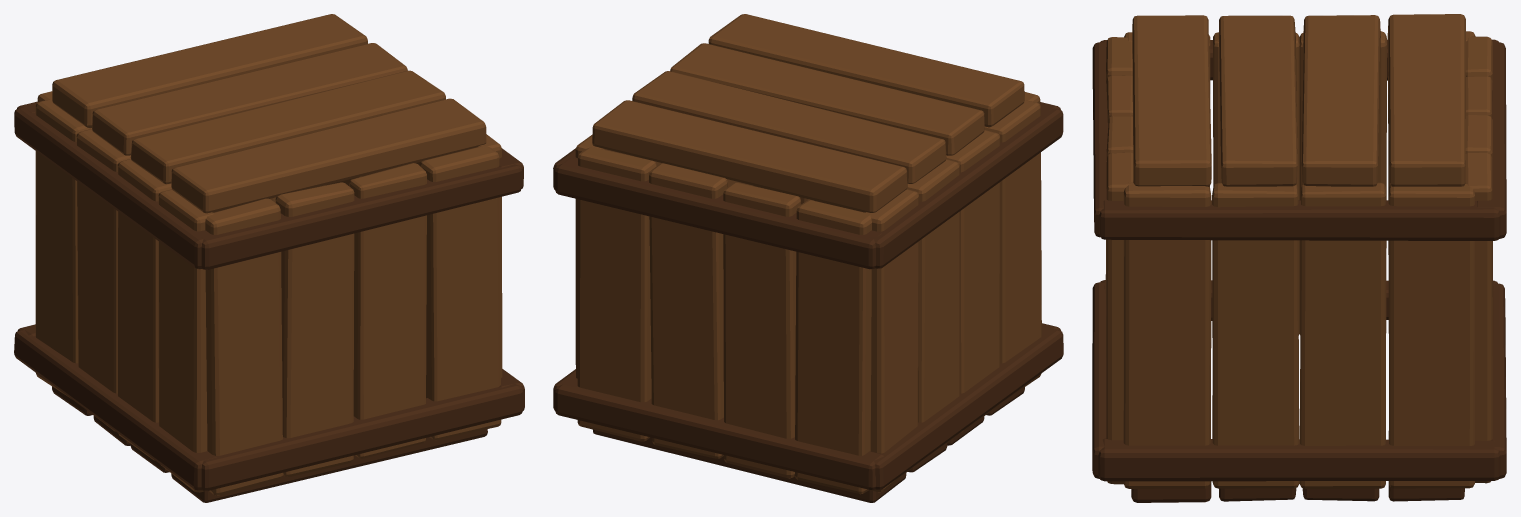
The model's file is crate_destructible_fractured.glb.
3 renders of one model, left to right at view 1: azimuth 30°, elevation 25°; view 2: azimuth 150°, elevation 25°; view 3: azimuth 270°, elevation 25°, orthographic. The views are drawn at different scales.
Visible parts, largest first — view 1: CrateFragmentFrontBoard-rigid, CrateFragmentLidBoard-rigid, CrateFragmentFrontBoard-rigid.003, CrateFragmentFrontBoard-rigid.001, CrateFragmentFrontBoard-rigid.002, CrateFragmentLidBoard-rigid.003, CrateFragmentLidBoard-rigid.001, CrateFragmentLidBoard-rigid.002, CrateFragmentRail-rigid, CrateFragmentRail-rigid.001, CrateFragmentSideBoard-rigid, CrateFragmentSideBoard-rigid.003 (+6 smaller); view 2: CrateFragmentFrontBoard-rigid.004, CrateFragmentLidBoard-rigid.003, CrateFragmentFrontBoard-rigid.006, CrateFragmentFrontBoard-rigid.005, CrateFragmentFrontBoard-rigid.007, CrateFragmentLidBoard-rigid, CrateFragmentLidBoard-rigid.002, CrateFragmentLidBoard-rigid.001, CrateFragmentRail-rigid.003, CrateFragmentRail-rigid.002, CrateFragmentSideBoard-rigid.003, CrateFragmentSideBoard-rigid (+6 smaller); view 3: CrateFragmentSideBoard-rigid.004, CrateFragmentSideBoard-rigid.005, CrateFragmentSideBoard-rigid.006, CrateFragmentSideBoard-rigid.007, CrateFragmentRail-rigid.006, CrateFragmentRail-rigid.007, CrateFragmentLidBoard-rigid.003, CrateFragmentLidBoard-rigid, CrateFragmentLidBoard-rigid.001, CrateFragmentLidBoard-rigid.002, CrateFragmentFrontBoard-rigid.003, CrateFragmentFrontBoard-rigid.007 (+16 smaller).
Boxes of the visible parts, left/top/right/bottom form: CrateFragmentFrontBoard-rigid: left=205, top=198, right=283, bottom=495; CrateFragmentLidBoard-rigid: left=171, top=98, right=486, bottom=213; CrateFragmentFrontBoard-rigid.003: left=420, top=145, right=501, bottom=439; CrateFragmentFrontBoard-rigid.001: left=275, top=182, right=354, bottom=476; CrateFragmentFrontBoard-rigid.002: left=349, top=163, right=426, bottom=458; CrateFragmentLidBoard-rigid.003: left=52, top=14, right=367, bottom=128; CrateFragmentLidBoard-rigid.001: left=130, top=70, right=445, bottom=184; CrateFragmentLidBoard-rigid.002: left=92, top=43, right=407, bottom=155; CrateFragmentRail-rigid: left=201, top=384, right=522, bottom=490; CrateFragmentRail-rigid.001: left=198, top=164, right=521, bottom=269; CrateFragmentSideBoard-rigid: left=158, top=189, right=213, bottom=492; CrateFragmentSideBoard-rigid.003: left=35, top=99, right=91, bottom=398; CrateFragmentFrontBoard-rigid.004: left=794, top=200, right=871, bottom=494; CrateFragmentLidBoard-rigid.003: left=592, top=100, right=907, bottom=212; CrateFragmentFrontBoard-rigid.006: left=649, top=163, right=727, bottom=458; CrateFragmentFrontBoard-rigid.005: left=723, top=182, right=800, bottom=478; CrateFragmentFrontBoard-rigid.007: left=577, top=147, right=656, bottom=441; CrateFragmentLidBoard-rigid: left=708, top=14, right=1024, bottom=127; CrateFragmentLidBoard-rigid.002: left=632, top=71, right=946, bottom=183; CrateFragmentLidBoard-rigid.001: left=670, top=43, right=984, bottom=155; CrateFragmentRail-rigid.003: left=555, top=158, right=881, bottom=269; CrateFragmentRail-rigid.002: left=555, top=384, right=884, bottom=489; CrateFragmentSideBoard-rigid.003: left=865, top=189, right=919, bottom=492; CrateFragmentSideBoard-rigid: left=984, top=100, right=1041, bottom=401; CrateFragmentSideBoard-rigid.004: left=1123, top=182, right=1211, bottom=488; CrateFragmentSideBoard-rigid.005: left=1212, top=183, right=1299, bottom=488; CrateFragmentSideBoard-rigid.006: left=1299, top=182, right=1385, bottom=488; CrateFragmentSideBoard-rigid.007: left=1388, top=184, right=1474, bottom=488; CrateFragmentRail-rigid.006: left=1098, top=438, right=1500, bottom=481; CrateFragmentRail-rigid.007: left=1099, top=200, right=1500, bottom=240; CrateFragmentLidBoard-rigid.003: left=1387, top=14, right=1465, bottom=186; CrateFragmentLidBoard-rigid: left=1132, top=15, right=1211, bottom=186; CrateFragmentLidBoard-rigid.001: left=1218, top=15, right=1297, bottom=186; CrateFragmentLidBoard-rigid.002: left=1301, top=15, right=1380, bottom=186; CrateFragmentFrontBoard-rigid.003: left=1106, top=152, right=1133, bottom=484; CrateFragmentFrontBoard-rigid.007: left=1465, top=152, right=1492, bottom=483.
Size of the model in its own units: 0.908 by 0.8273 by 0.9076.
